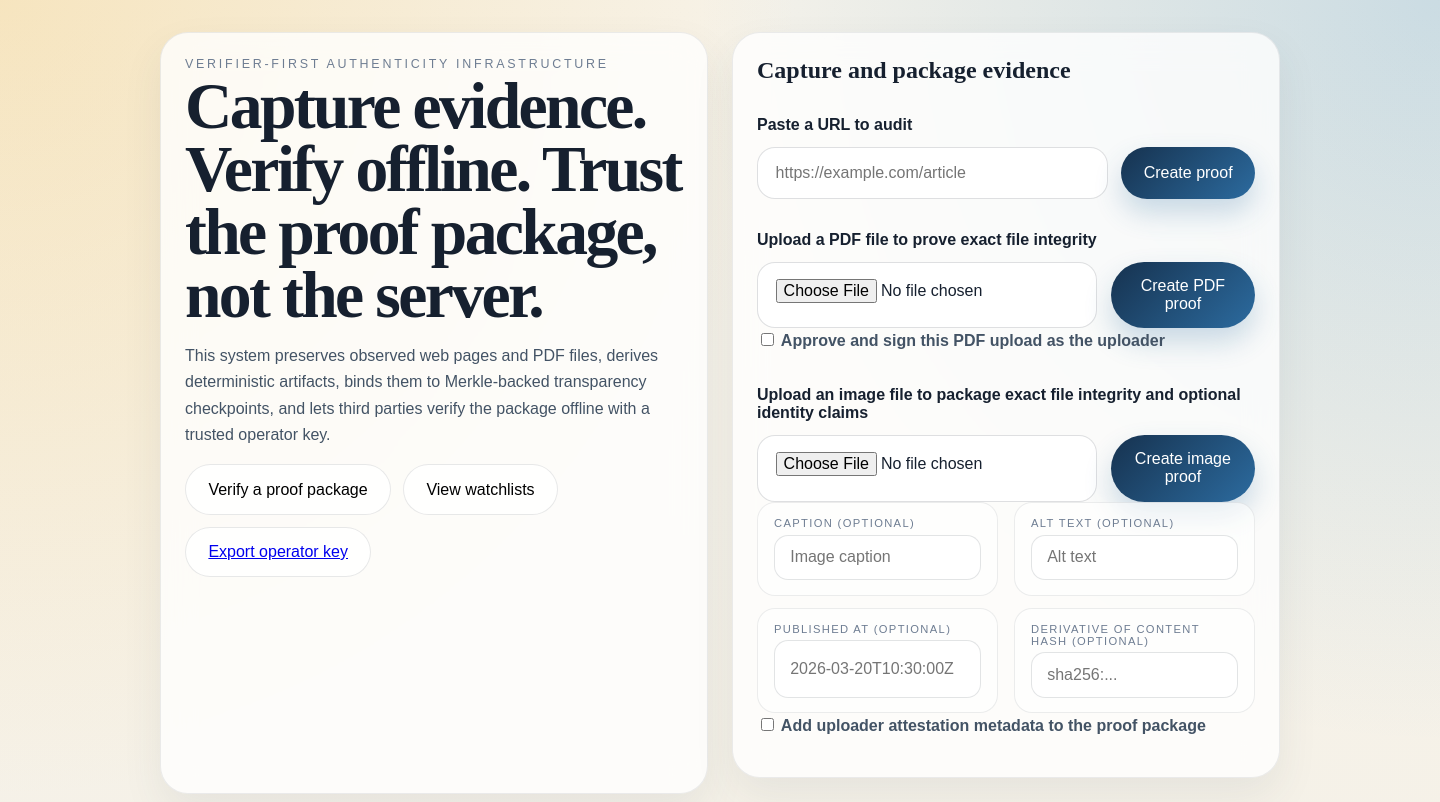
Test: App › submits a capture and renders the capture detail honesty copy
Type "https://example.com/story" into the field labelled "Paste a URL to audit" at (932, 173), box [757,147,1108,199]
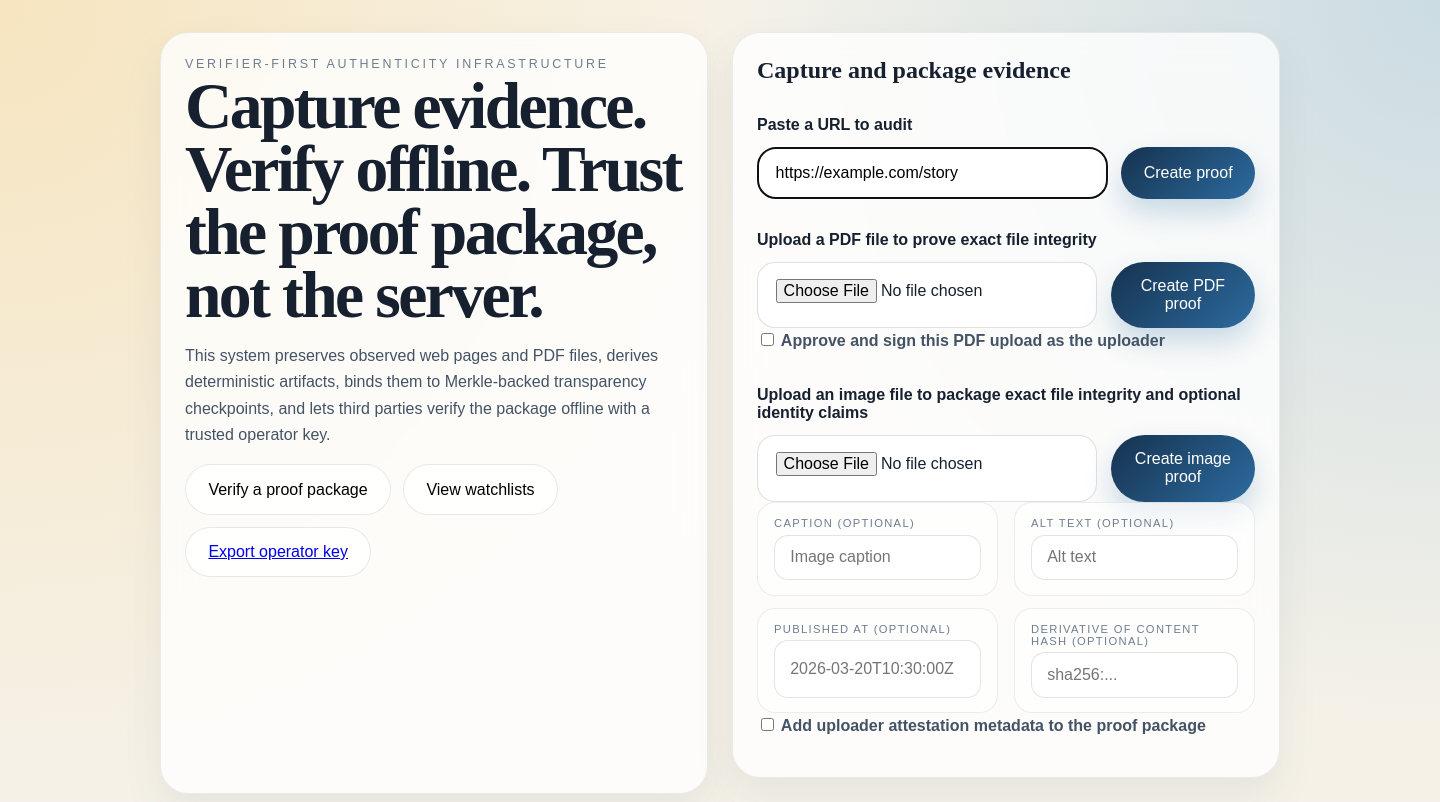
Click the button "Create proof" at (1188, 173), box [1121,147,1255,199]
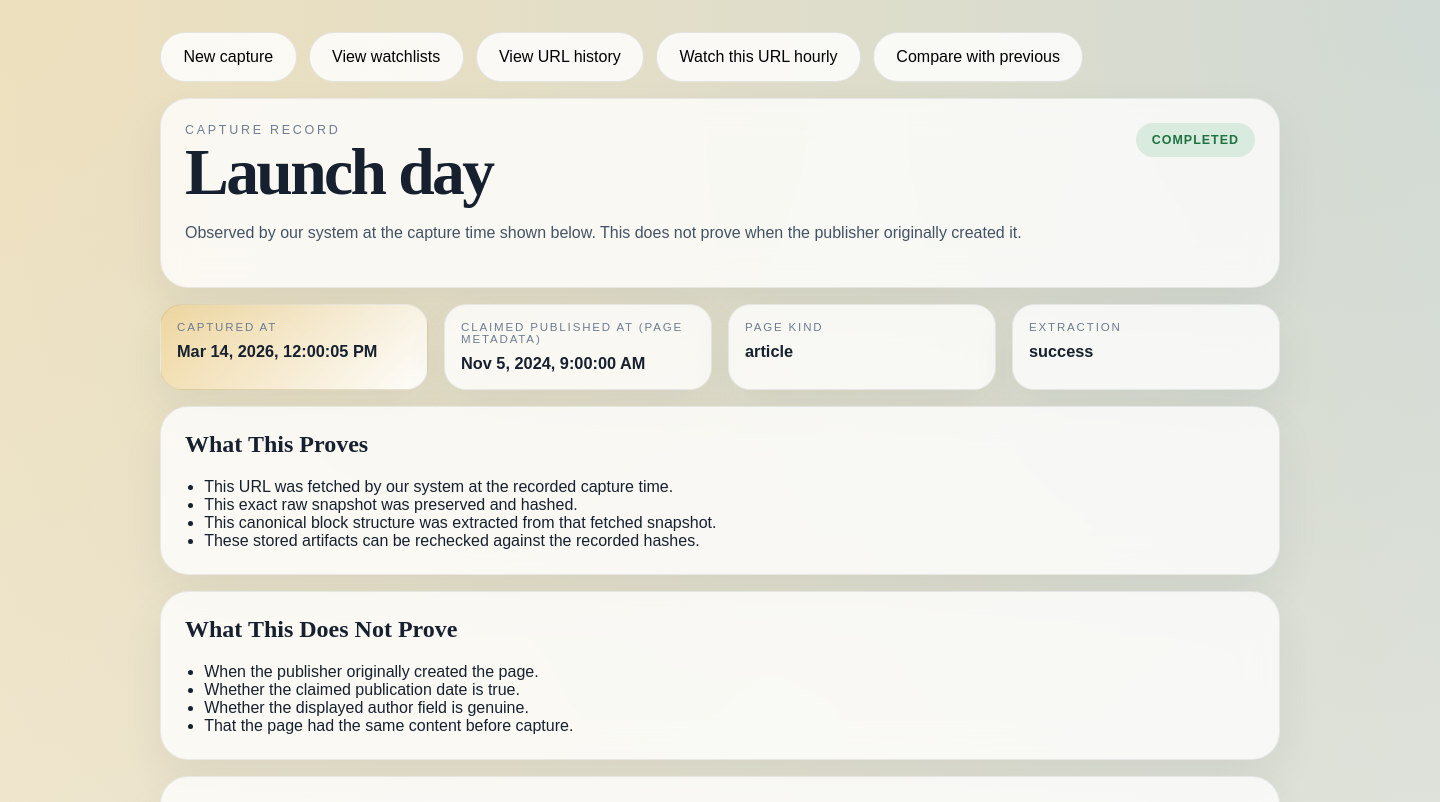
Now the text "Observed by our system at the capture time shown below" is shown, box [185,224,1022,241]
Now the heading "Launch day" is shown, box [185,136,492,208]
Now the heading "What This Proves" is shown, box [185,431,368,457]
